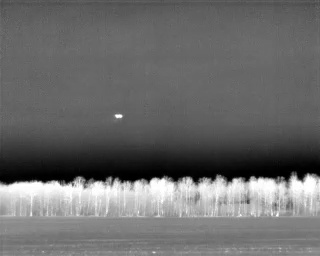DRONE: (111, 109, 126, 123)
